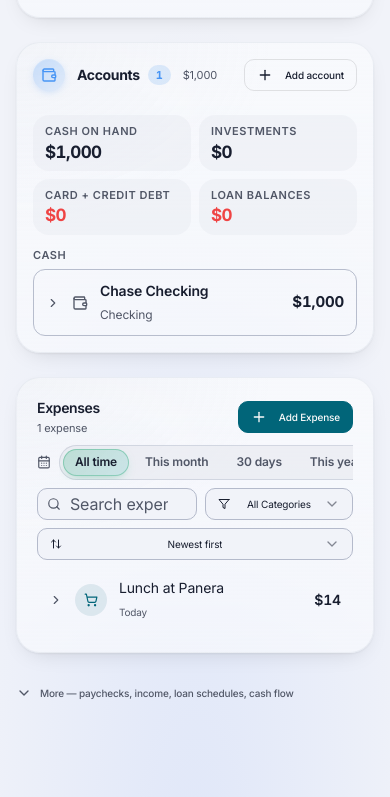
Test: Finance: an expense keeps the date the user chose › add: a half-typed date is refused, never filed as today
(page scrolled)
Click the button with test id "button-add-expense" at coordinates (295, 417), box [238,401,353,433]
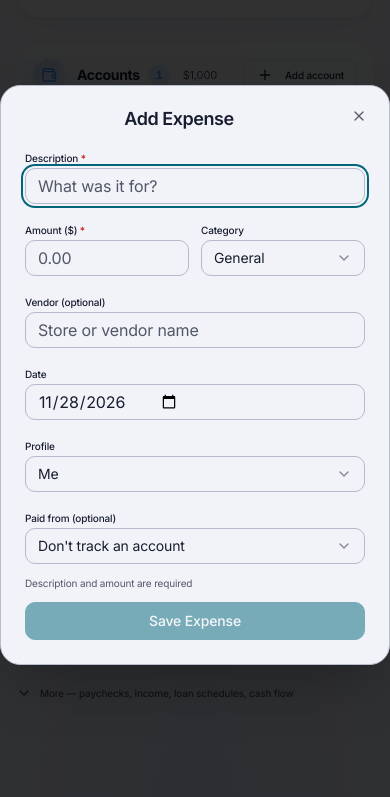
Type "Haircut" into the field with test id "input-expense-description" at coordinates (195, 186), box [25,168,365,204]
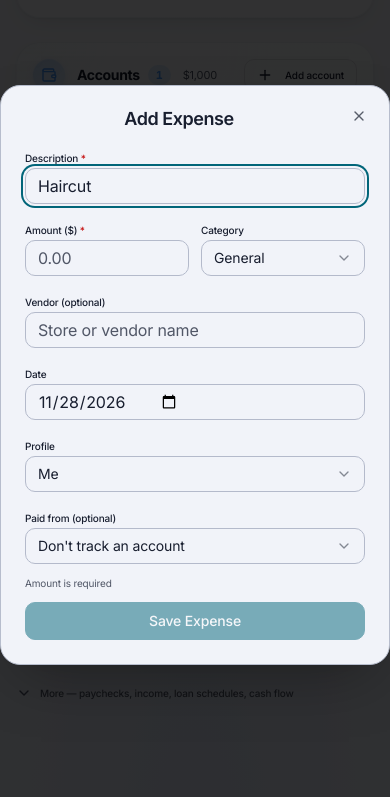
Type "30" into the number field with test id "input-expense-amount" at coordinates (107, 258), box [25,240,189,276]
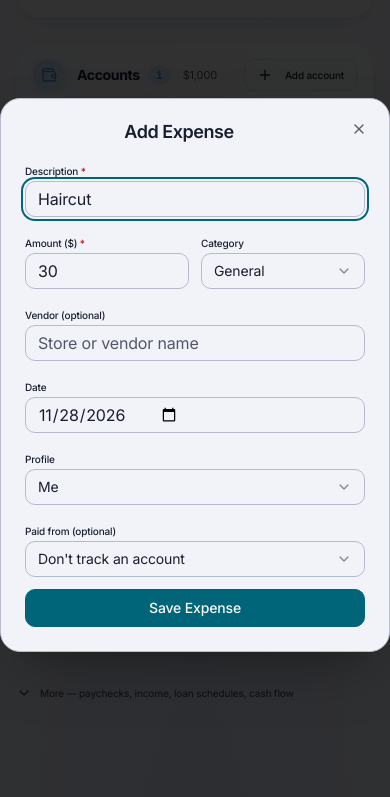
Clear the date field with test id "input-expense-date" at coordinates (195, 415), box [25,397,365,433]
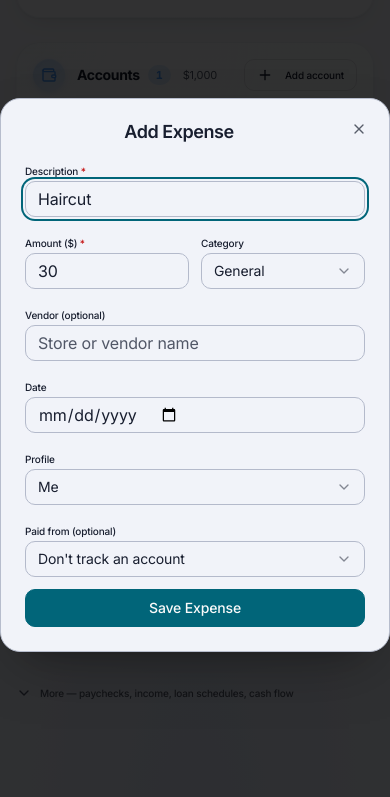
Click the button with test id "button-save-expense" at coordinates (195, 608), box [25,589,365,627]
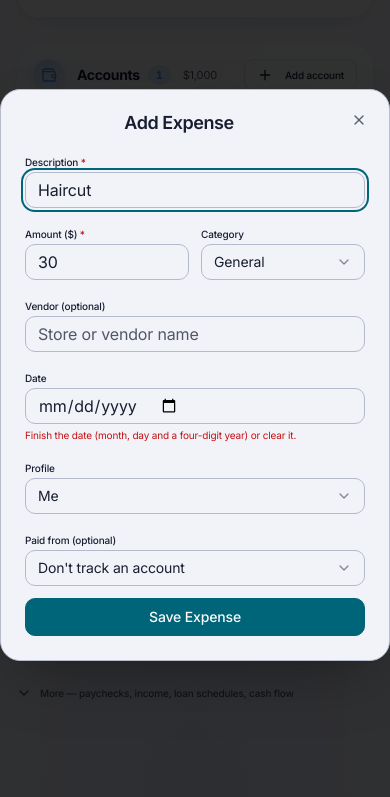
Expected: the message "Finish the date (month, day and a four-digit year) or clear it." is shown, [25,429,296,441]
